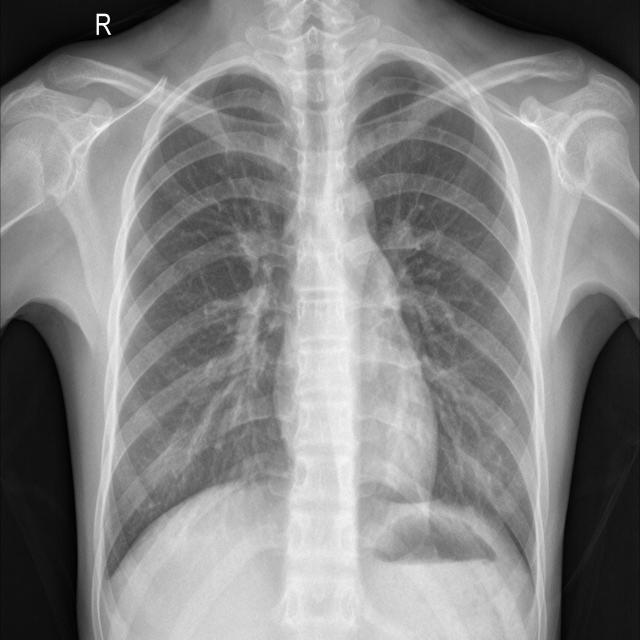no-pneumonia: (107, 71, 299, 573), (355, 62, 534, 553)
